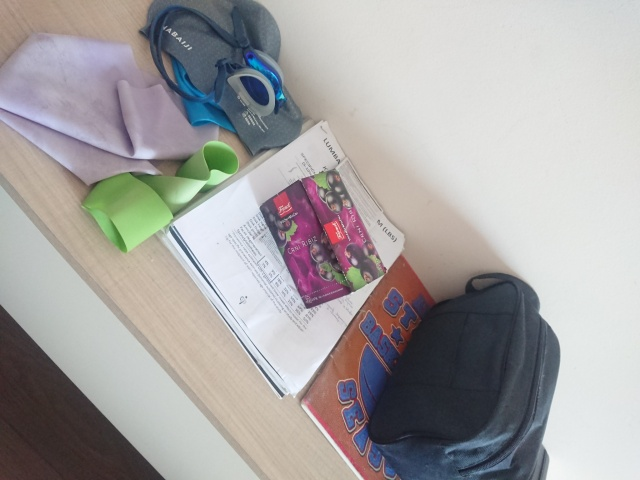Franck Black Currant Tea 60g: (257, 166, 390, 311)
